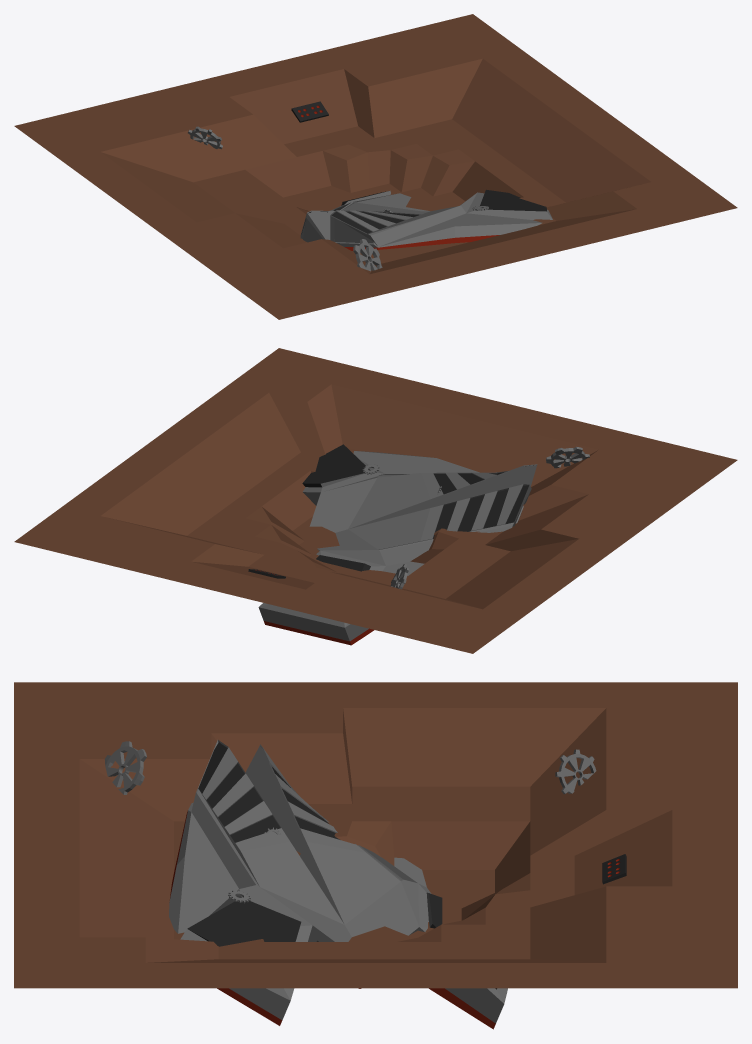
File: Parte_de_tierra_con_nave_estrellada.fbx
3 views of the same model, one above another, from view 1: azimuth 30°, elevation 25°; view 2: azimuth 150°, elevation 25°; view 3: azimuth 270°, elevation 25° (orthographic). The views are drawn at different scales.
Parts seen in each view (by area): view 1: NAVE ESTRELLADA PLANETA JUNTA; view 2: NAVE ESTRELLADA PLANETA JUNTA; view 3: NAVE ESTRELLADA PLANETA JUNTA.
Boxes of the visible parts, x1,y1,x2,y2 form: NAVE ESTRELLADA PLANETA JUNTA: [14, 14, 737, 319]; NAVE ESTRELLADA PLANETA JUNTA: [14, 348, 737, 653]; NAVE ESTRELLADA PLANETA JUNTA: [14, 682, 737, 1029].
Size of the model in its own units: 400 by 107 by 400.
1 material, 1 textured.
